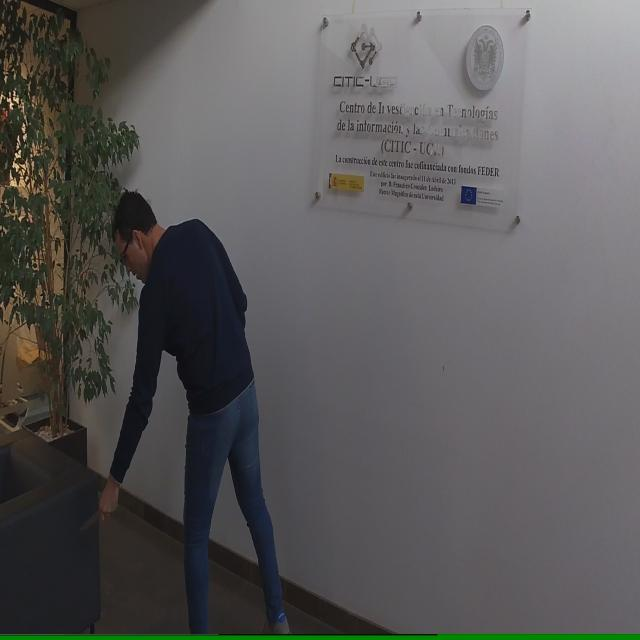knife: (75, 491, 116, 538)
